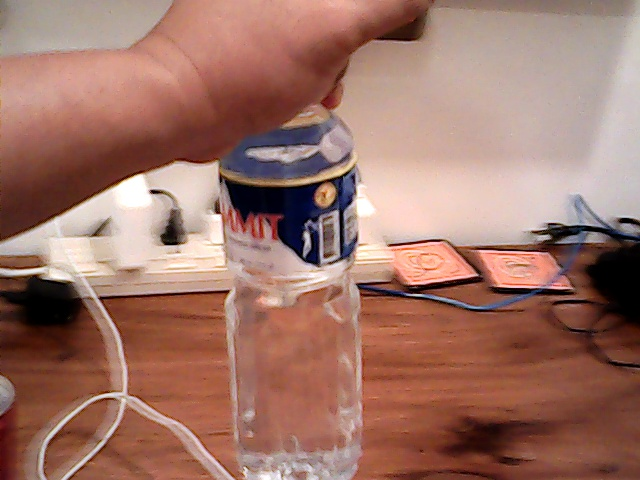Summit Water: (219, 134, 363, 469)
